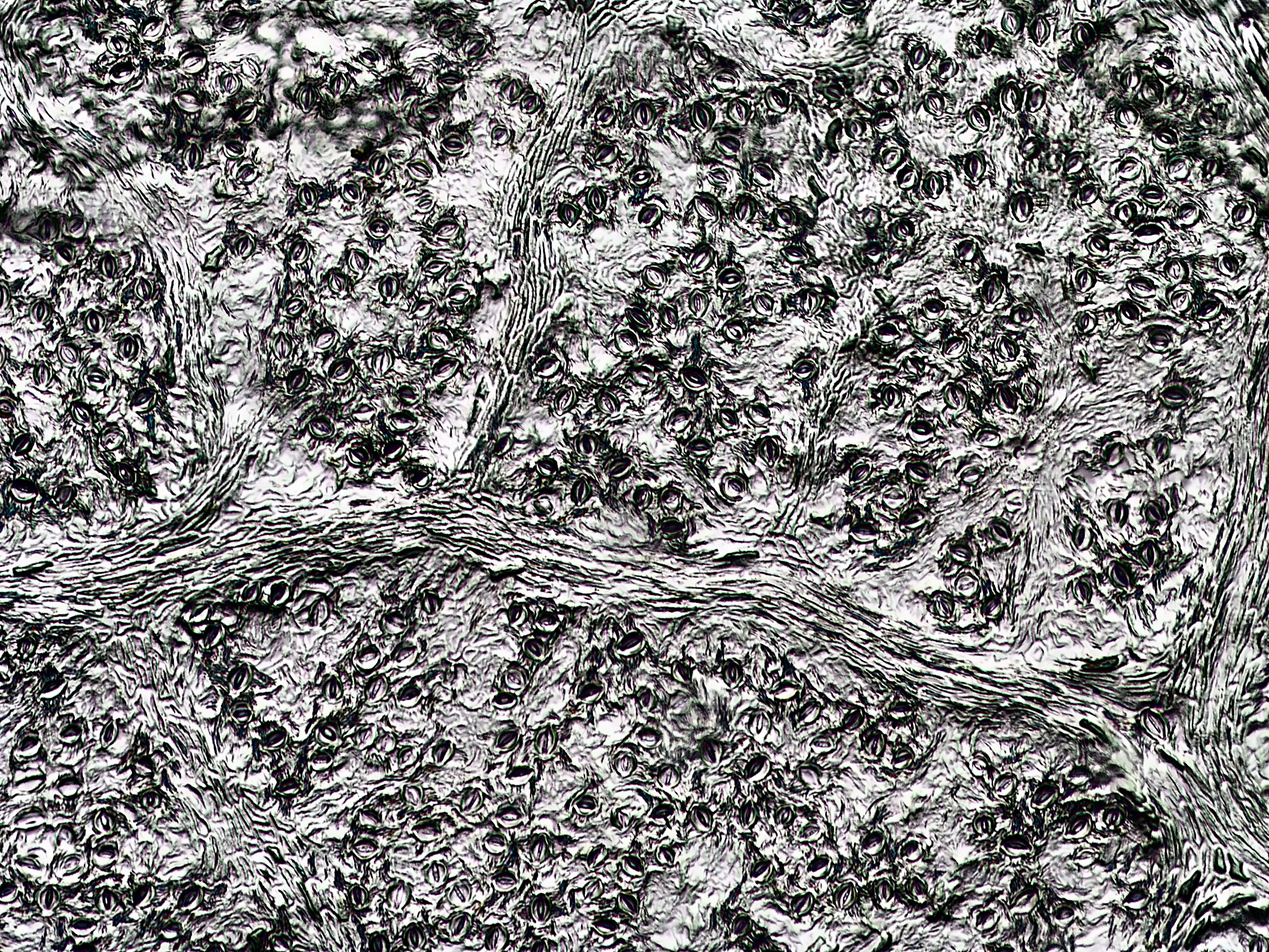stomata: (1009, 886, 1039, 915), (10, 769, 45, 792), (177, 49, 208, 74), (631, 98, 656, 129), (1008, 192, 1033, 223), (1160, 383, 1192, 407), (1031, 783, 1059, 810), (327, 356, 356, 382), (747, 711, 772, 741), (690, 100, 714, 131), (1143, 709, 1167, 740), (429, 357, 461, 380), (689, 244, 715, 272), (743, 756, 771, 782), (664, 408, 693, 433), (129, 388, 158, 413), (97, 426, 126, 451), (616, 631, 645, 656), (979, 274, 1003, 304), (1108, 560, 1132, 590), (533, 725, 556, 756), (720, 473, 747, 499), (1066, 812, 1092, 839), (173, 88, 202, 112), (765, 85, 789, 114), (295, 83, 318, 113), (716, 267, 746, 290), (387, 881, 410, 911), (1001, 835, 1032, 857), (139, 16, 166, 41), (229, 662, 253, 690), (721, 659, 744, 688), (624, 307, 654, 329), (387, 411, 417, 433), (1072, 520, 1093, 551), (530, 893, 551, 924), (693, 194, 718, 220), (1174, 201, 1200, 226), (966, 105, 990, 132), (1230, 200, 1254, 227), (426, 328, 453, 352), (710, 69, 738, 92), (308, 416, 336, 439), (365, 673, 388, 701), (1121, 887, 1150, 909), (848, 460, 873, 485), (635, 203, 661, 227), (1166, 155, 1192, 179), (994, 386, 1018, 412), (28, 298, 52, 324), (316, 722, 342, 746), (727, 98, 750, 125), (1151, 127, 1178, 150), (596, 389, 619, 416), (554, 386, 577, 413), (833, 882, 856, 909), (1001, 81, 1021, 112), (221, 10, 249, 32), (1024, 84, 1046, 112), (1104, 439, 1126, 467), (486, 924, 508, 952), (701, 737, 723, 765), (9, 480, 38, 501), (531, 356, 560, 377), (1133, 224, 1165, 243), (770, 681, 802, 700), (70, 401, 94, 426), (99, 719, 119, 749), (461, 787, 485, 812), (996, 335, 1019, 361), (288, 238, 311, 264), (371, 347, 394, 373), (989, 520, 1012, 546), (791, 891, 814, 917), (964, 154, 986, 181), (58, 340, 80, 367), (1138, 185, 1166, 206), (688, 288, 709, 316), (880, 147, 904, 171), (642, 265, 666, 289), (722, 320, 746, 344), (522, 637, 546, 661), (613, 753, 637, 777), (1116, 301, 1141, 324), (993, 773, 1018, 796), (326, 72, 348, 98), (1141, 79, 1163, 105), (84, 309, 106, 335), (287, 366, 309, 392), (449, 913, 471, 939), (586, 844, 608, 870), (1072, 22, 1093, 49), (681, 368, 708, 389), (572, 795, 599, 816), (691, 806, 712, 833), (528, 835, 548, 863), (648, 804, 676, 824), (1118, 156, 1142, 179), (861, 831, 885, 854), (923, 92, 945, 117), (263, 728, 288, 750), (178, 887, 203, 909), (974, 909, 999, 931), (942, 336, 968, 357), (945, 384, 966, 410), (345, 446, 371, 467), (1141, 540, 1162, 566), (864, 731, 885, 757), (1031, 15, 1049, 45), (1196, 300, 1223, 320), (628, 366, 655, 386), (408, 298, 435, 318), (633, 483, 653, 510), (533, 612, 560, 632), (578, 683, 605, 703), (1127, 278, 1155, 297), (873, 324, 901, 343), (272, 331, 291, 359), (39, 679, 67, 698), (495, 807, 523, 826), (238, 57, 261, 80), (1116, 104, 1139, 127), (1063, 151, 1086, 174), (1076, 181, 1099, 204), (64, 215, 87, 238), (900, 839, 923, 862), (772, 207, 796, 229), (1000, 10, 1022, 34), (615, 330, 639, 352), (747, 403, 771, 425), (11, 433, 35, 455), (346, 248, 368, 272), (901, 508, 925, 530), (96, 888, 118, 912), (131, 885, 155, 907), (797, 766, 821, 788), (806, 856, 830, 878), (972, 812, 994, 836), (1103, 805, 1125, 829), (1202, 155, 1224, 179), (872, 112, 897, 133), (907, 420, 932, 441), (378, 273, 399, 298), (955, 574, 980, 595), (434, 740, 455, 765), (494, 729, 519, 750), (617, 892, 638, 917), (714, 135, 740, 155), (735, 196, 755, 222), (791, 359, 817, 379), (635, 727, 661, 747), (355, 723, 375, 749), (33, 361, 52, 388), (69, 917, 96, 936), (506, 766, 536, 783), (1087, 234, 1109, 257), (1170, 288, 1192, 311), (954, 239, 977, 261), (716, 408, 739, 430), (233, 234, 255, 257), (269, 581, 291, 604), (1195, 108, 1218, 130), (297, 183, 318, 207), (630, 166, 654, 187), (184, 142, 202, 170), (788, 4, 812, 25), (690, 41, 711, 65), (1147, 331, 1171, 352), (1075, 267, 1096, 291), (1152, 435, 1170, 463), (905, 462, 929, 483), (85, 369, 109, 390), (382, 440, 406, 461), (382, 611, 406, 632), (93, 844, 117, 865), (842, 707, 863, 731), (890, 748, 914, 769), (110, 63, 135, 83), (435, 17, 460, 37), (38, 216, 58, 241), (57, 777, 82, 797), (323, 676, 343, 701), (353, 838, 378, 858), (492, 872, 517, 892), (656, 766, 681, 786), (118, 334, 137, 360), (760, 438, 777, 467), (572, 476, 589, 505), (850, 523, 877, 541), (1165, 82, 1187, 104), (583, 877, 605, 899), (622, 855, 644, 877), (751, 858, 773, 880), (799, 701, 821, 723), (234, 104, 257, 125), (114, 462, 135, 485), (982, 595, 1003, 618), (240, 580, 261, 603), (396, 645, 419, 666), (357, 647, 380, 668), (398, 745, 419, 768), (507, 603, 528, 626), (594, 144, 618, 164), (1120, 66, 1140, 90), (1166, 257, 1186, 281), (921, 299, 945, 319), (932, 592, 952, 616), (94, 809, 114, 833), (404, 925, 424, 949), (779, 246, 807, 263), (413, 823, 441, 840), (739, 800, 756, 828), (1108, 500, 1127, 525), (40, 886, 59, 911), (874, 879, 893, 904), (907, 876, 926, 901), (924, 173, 942, 199), (135, 275, 153, 301), (422, 258, 448, 276), (607, 458, 633, 476), (274, 777, 300, 795), (1073, 848, 1099, 866), (106, 35, 128, 56), (751, 164, 773, 185), (937, 58, 958, 80), (1075, 311, 1096, 333), (881, 385, 902, 407), (314, 329, 336, 350), (660, 488, 681, 510), (367, 218, 390, 238), (575, 434, 598, 454), (17, 736, 40, 756), (58, 854, 81, 874), (204, 624, 224, 647), (731, 913, 751, 936), (441, 135, 465, 154), (875, 76, 899, 95), (395, 386, 419, 405), (672, 660, 691, 684), (799, 290, 817, 315), (977, 428, 1002, 446), (687, 438, 712, 456), (658, 518, 683, 536), (591, 919, 619, 935), (588, 186, 605, 212), (911, 43, 928, 69), (899, 167, 920, 188), (752, 293, 773, 314), (464, 37, 486, 57), (1219, 255, 1239, 277), (658, 306, 678, 328), (1072, 579, 1092, 601), (348, 884, 368, 906), (448, 883, 470, 903), (706, 168, 729, 187), (883, 489, 906, 508), (389, 73, 404, 102), (407, 162, 432, 179), (358, 47, 378, 68), (370, 154, 390, 175), (1021, 137, 1041, 158), (904, 356, 925, 376), (53, 244, 73, 265), (59, 725, 81, 744), (484, 833, 506, 852), (422, 591, 440, 614), (959, 466, 983, 483), (492, 692, 516, 709), (810, 735, 834, 752), (438, 74, 463, 90), (595, 105, 615, 125), (189, 603, 209, 623), (490, 125, 511, 144), (521, 93, 540, 114), (1020, 381, 1039, 402), (328, 272, 347, 293), (426, 863, 445, 884), (502, 79, 520, 101), (560, 203, 578, 225), (845, 118, 863, 140), (1153, 58, 1175, 76), (1115, 201, 1133, 223), (1144, 501, 1162, 523), (139, 789, 161, 807), (504, 670, 526, 688), (100, 254, 117, 277), (352, 404, 375, 421), (447, 285, 470, 302), (614, 807, 630, 831), (1057, 53, 1076, 73), (403, 784, 421, 805), (823, 83, 845, 100), (311, 752, 333, 769), (399, 687, 421, 704), (533, 497, 552, 516), (233, 703, 252, 722), (656, 846, 675, 865), (343, 182, 361, 202), (224, 140, 244, 158), (237, 166, 257, 184), (864, 244, 884, 262), (777, 806, 795, 826), (411, 471, 432, 488), (950, 545, 971, 562), (978, 29, 994, 51), (435, 222, 458, 237), (968, 757, 987, 775), (58, 485, 75, 505), (132, 758, 152, 775), (221, 72, 237, 93), (800, 824, 821, 840), (285, 298, 303, 316), (1011, 307, 1031, 323), (896, 221, 912, 240), (537, 460, 556, 476), (421, 105, 439, 120), (416, 198, 432, 210)
